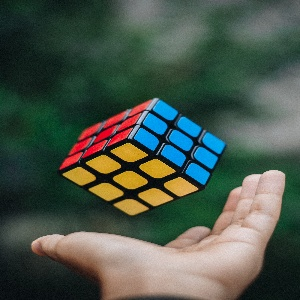cube: (58, 98, 227, 218)
